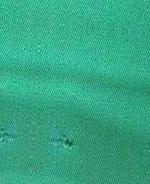knot: (53, 130, 78, 154)
